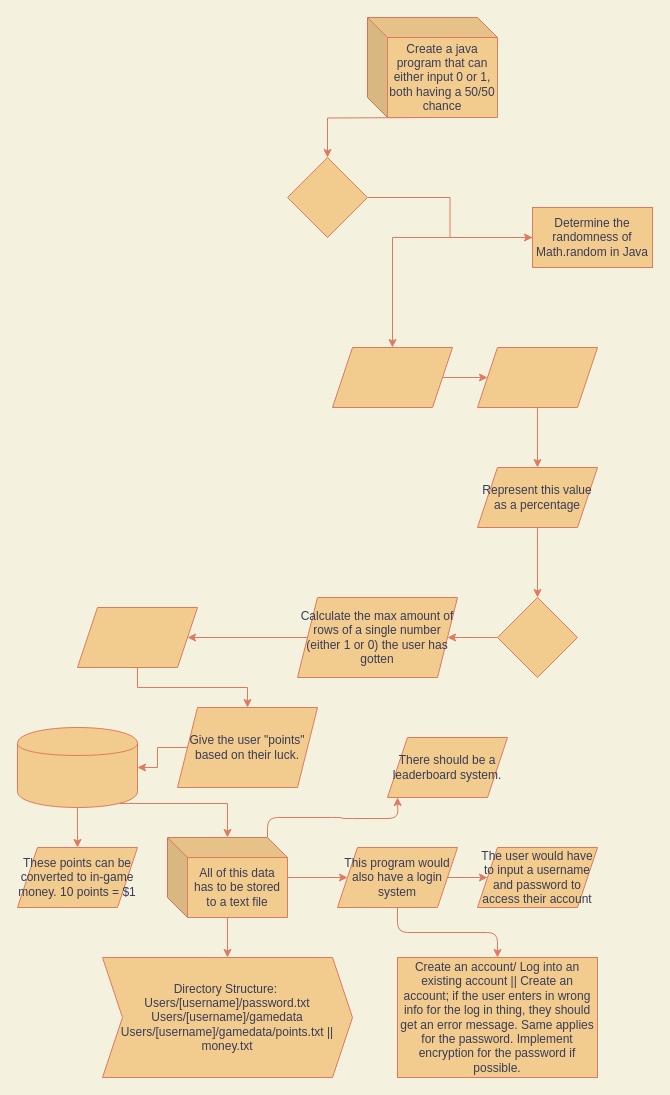
Some shapes in this 670 by 1095 pixel diagram are drawn without their labels. Here are the shapes that lost their labels. From the top down, the centre of each, then its label:
At pixel 327 197: "Use this to".
At pixel 392 377: "Take a sample size of 100".
At pixel 537 377: "Analyse the amount of 0s and 1s gotten to determine the chance".
At pixel 137 637: "Calculate the luck of the user".
At pixel 537 637: "Use this to:".
At pixel 77 767: "20% - 10 points 40% - 20 points 60% - 30 points".
